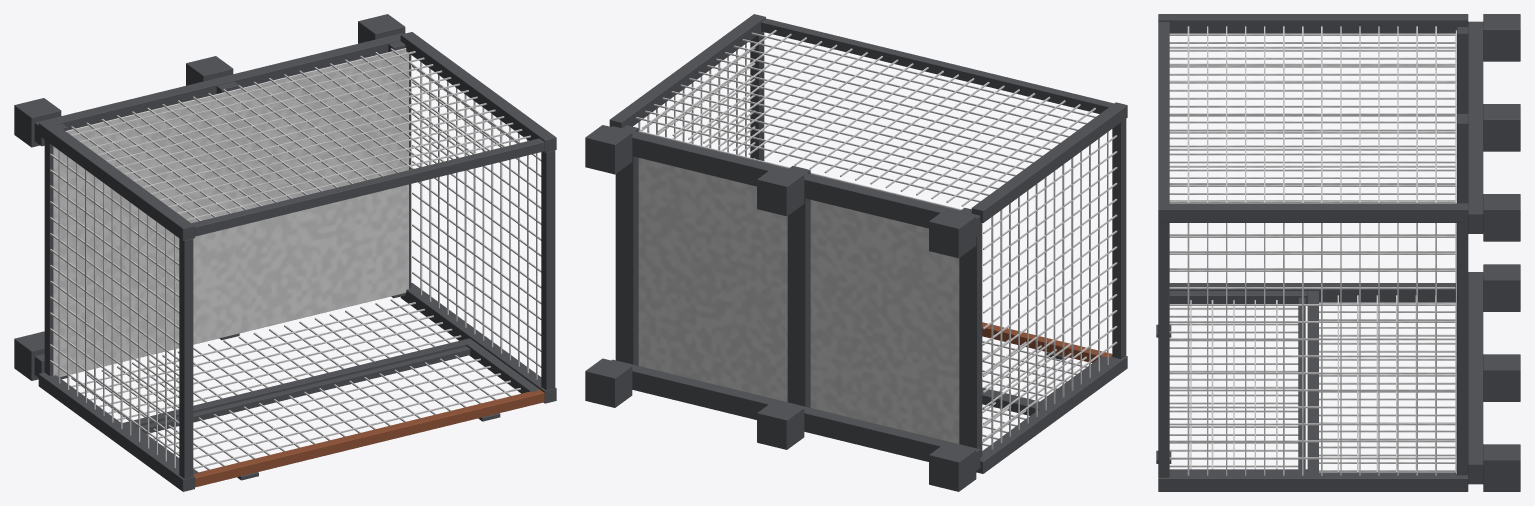
The model's file is Equipment__MeshPalletBox1.glb.
3 views of the same model, side by side, from view 1: azimuth 30°, elevation 25°; view 2: azimuth 150°, elevation 25°; view 3: azimuth 270°, elevation 25° (orthographic). The views are drawn at different scales.
Parts seen in each view (by area): view 1: /World/Equipment/MeshPalletBox1/Visual (×2), /World/Equipment/MeshPalletBox1/Visual/mesh_pallet_box_front; view 2: /World/Equipment/MeshPalletBox1/Visual (×2), /World/Equipment/MeshPalletBox1/Visual/mesh_pallet_box_front; view 3: /World/Equipment/MeshPalletBox1/Visual (×2).
Boxes of the visible parts, x1,y1,x2,y2 form: /World/Equipment/MeshPalletBox1/Visual (×2): [14, 14, 556, 491]; /World/Equipment/MeshPalletBox1/Visual/mesh_pallet_box_front: [193, 389, 544, 487]; /World/Equipment/MeshPalletBox1/Visual (×2): [585, 14, 1127, 491]; /World/Equipment/MeshPalletBox1/Visual/mesh_pallet_box_front: [982, 322, 1112, 362]; /World/Equipment/MeshPalletBox1/Visual (×2): [1156, 14, 1520, 491].
Size of the model in its own units: 1.24 by 0.841 by 0.975.
Materials: 3 (1 with a texture image).
